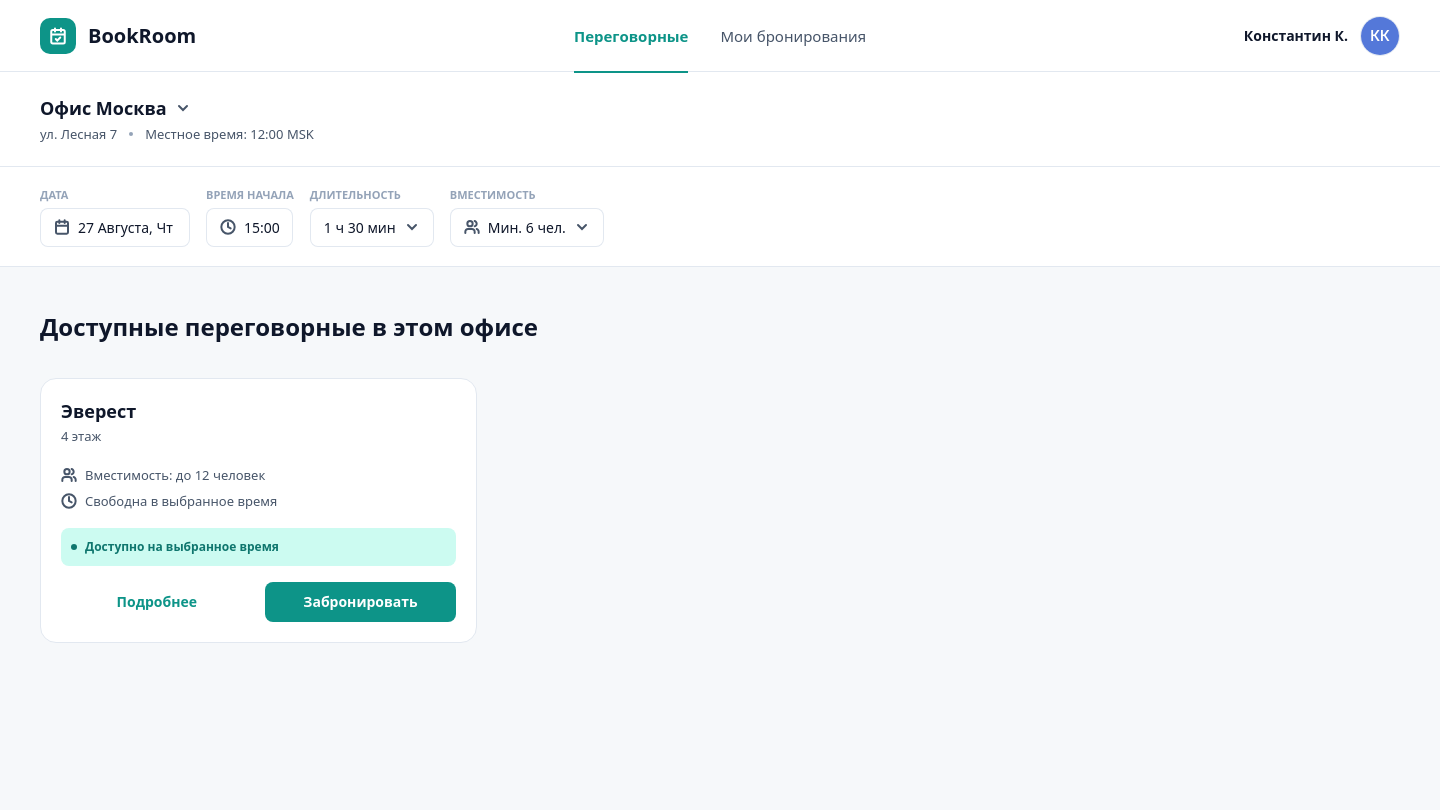
Test case: App layout › сохраняет фильтры после перехода в бронирования и обратно
Expected: the element "Офис Москва" is shown, top-left (0, 72), bottom-right (1439, 167)
What coordinates should you click on to do the following:
click the link "Мои бронирования"
I would click on:
 (793, 36)
Its box is top-left (720, 26), bottom-right (866, 46).
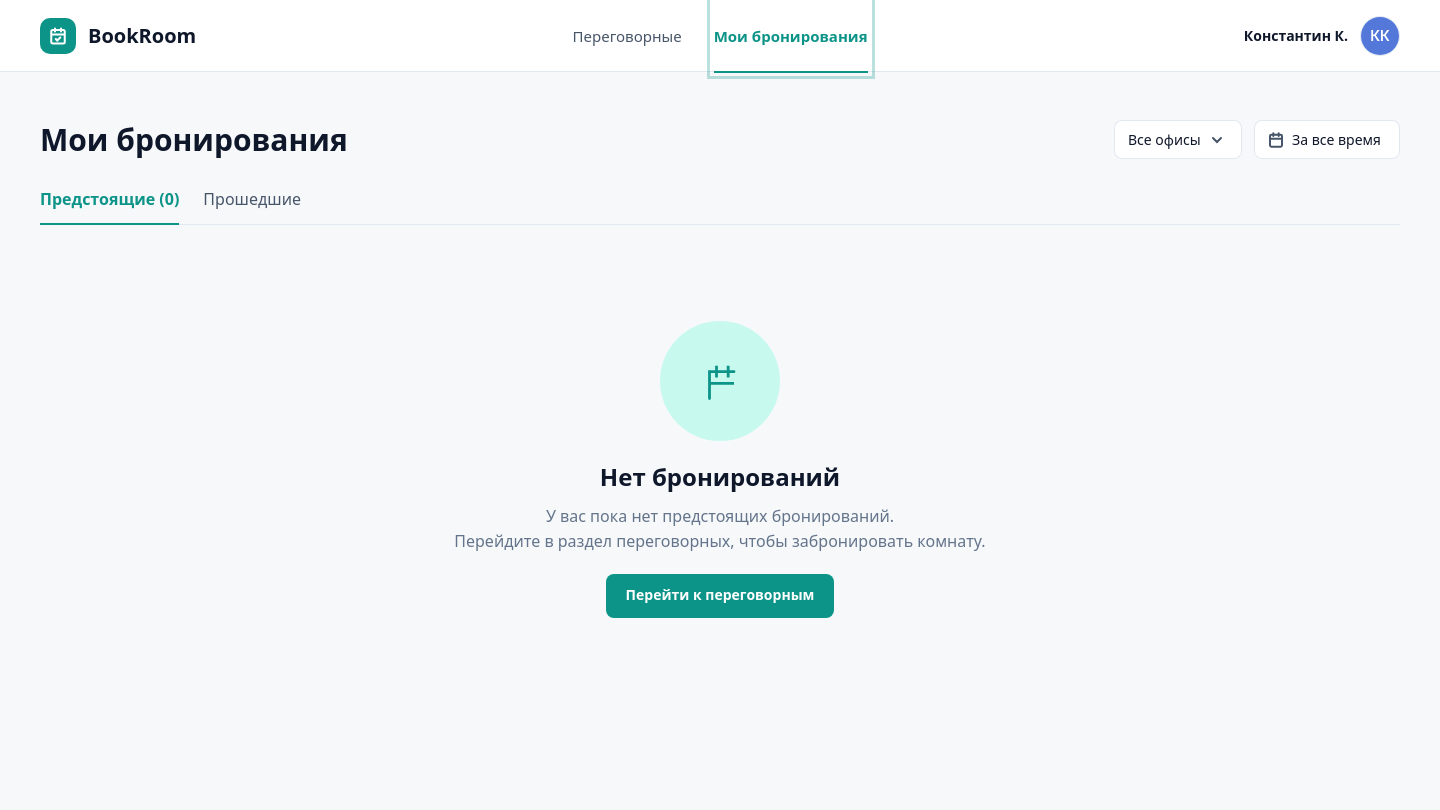
Expected: the heading "Мои бронирования" is shown, top-left (40, 122), bottom-right (348, 158)
What coordinates should you click on to do the following:
click the link "Переговорные"
I would click on:
 (627, 36)
Its box is top-left (572, 26), bottom-right (682, 46).
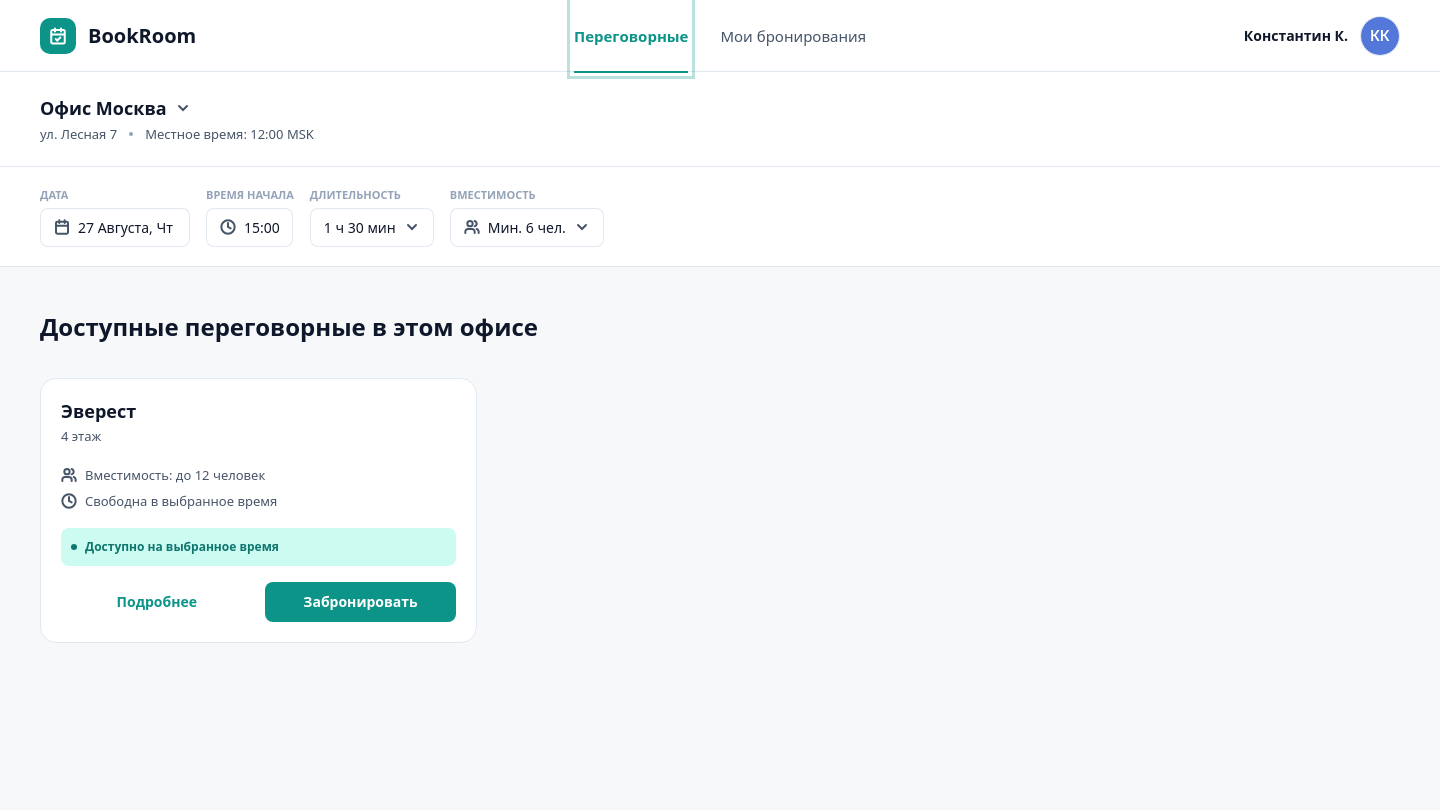
Expected: the element "Офис Москва" is shown, top-left (0, 72), bottom-right (1439, 167)
Expected: the button with aria-label "Дата бронирования" reads "27 Августа, Чт", top-left (40, 208), bottom-right (190, 246)
Expected: the field named "Время начала" holds "15:00", top-left (244, 218), bottom-right (284, 236)
